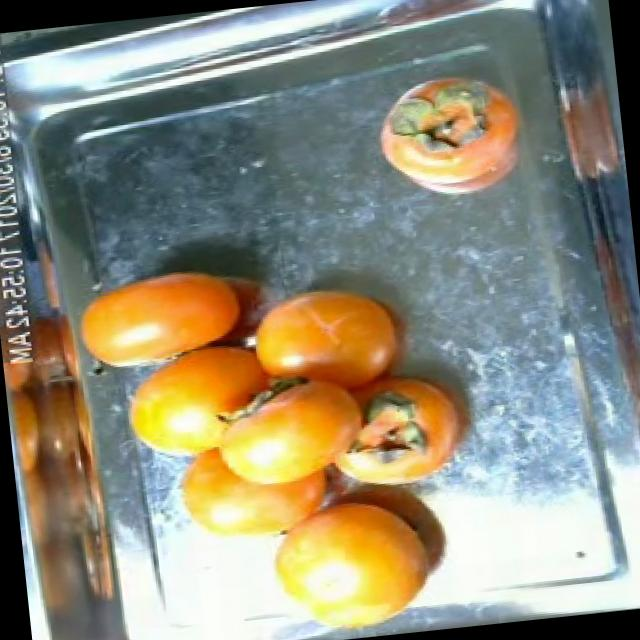Fruit: (62, 247, 258, 372), (158, 426, 324, 564)
